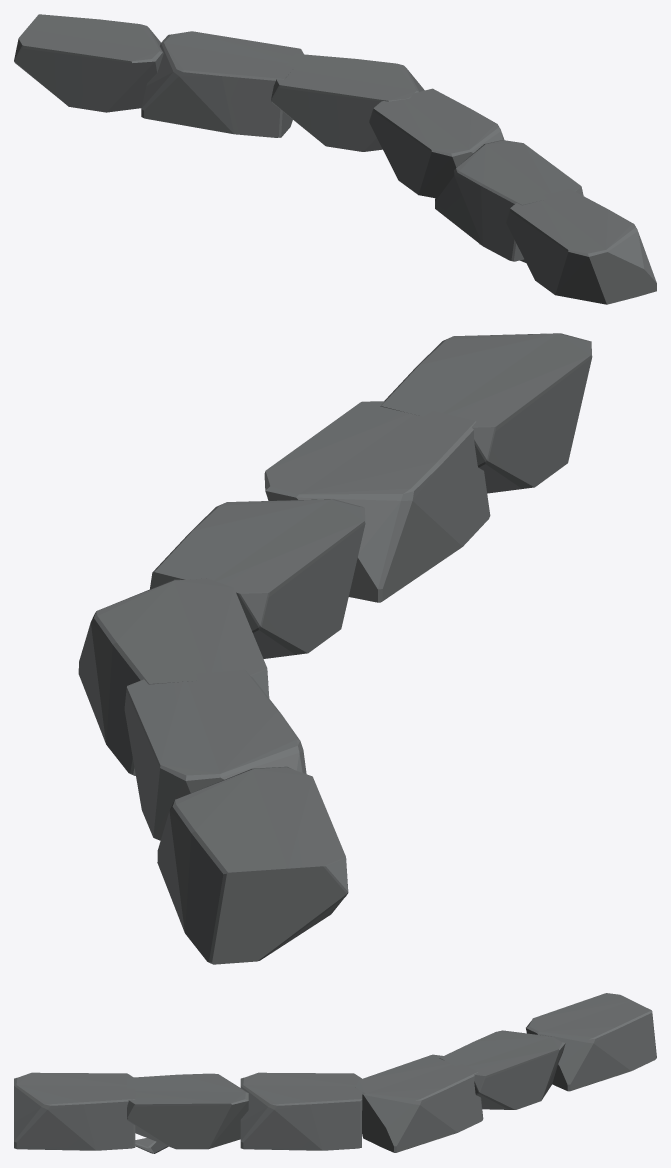
Rendered from FountainWallPiece1.fbx.
3 views of the same model, one above another, from view 1: azimuth 30°, elevation 25°; view 2: azimuth 150°, elevation 25°; view 3: azimuth 270°, elevation 25° (orthographic). The views are drawn at different scales.
Visible parts, largest first — view 1: Rock 4.012; view 2: Rock 4.012; view 3: Rock 4.012.
Part boxes in pixels (x1=…): Rock 4.012: x1=14, y1=14, x2=656, y2=304; Rock 4.012: x1=78, y1=333, x2=592, y2=964; Rock 4.012: x1=14, y1=993, x2=656, y2=1153.
Size of the model in its own units: 2478 by 603 by 5673.
